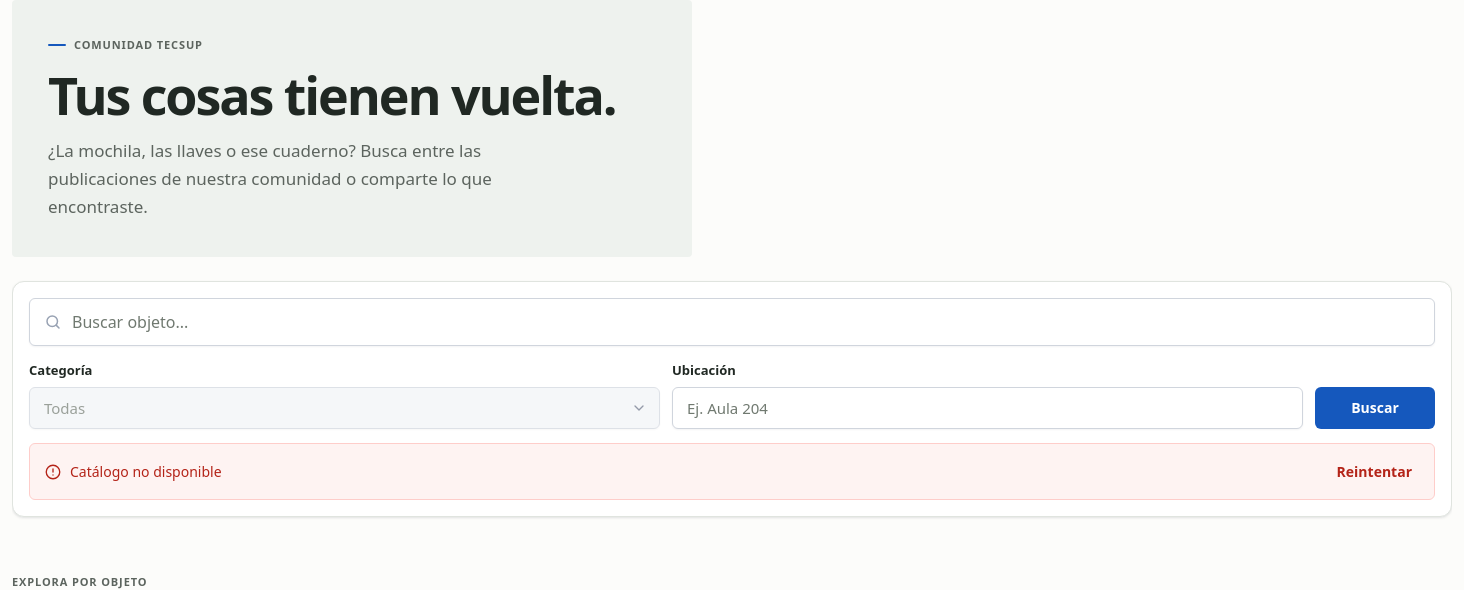
Test: H6/H7 - Entrada de búsqueda desde Inicio › reintenta las categorías sin confundir su error con el listado reciente
The width and height of the screenshot is (1464, 590).
Expected: the message shows "Catálogo no disponible", [70,462,222,481]
Expected: the dropdown is disabled, [29,387,660,429]
Click the button "Reintentar": (1374, 472) [1329,456,1420,487]
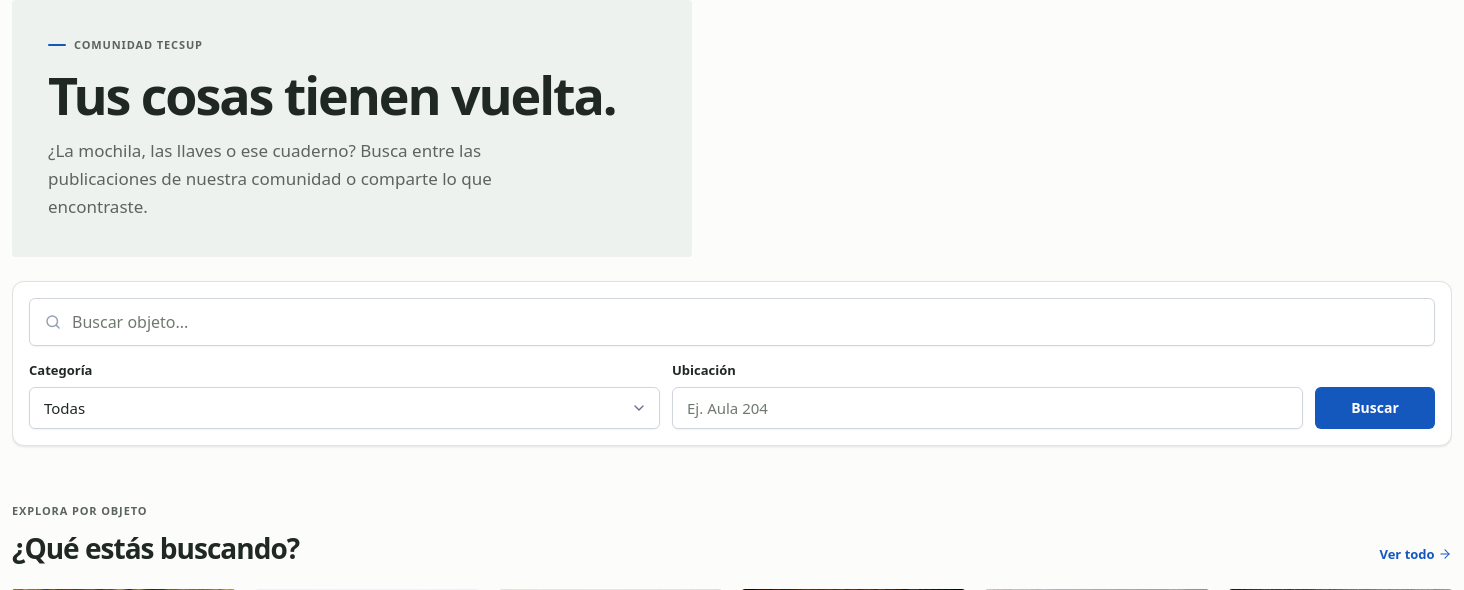
Now the dropdown is enabled, box [29,387,660,429]
Now the message "Catálogo no disponible Reintentar" is gone
